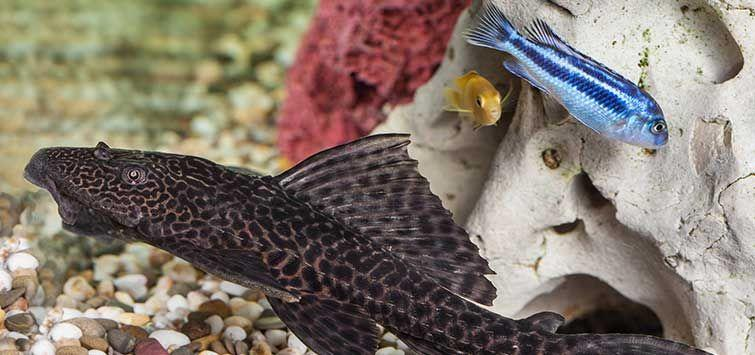Janitor Fish: (24, 131, 720, 355)
